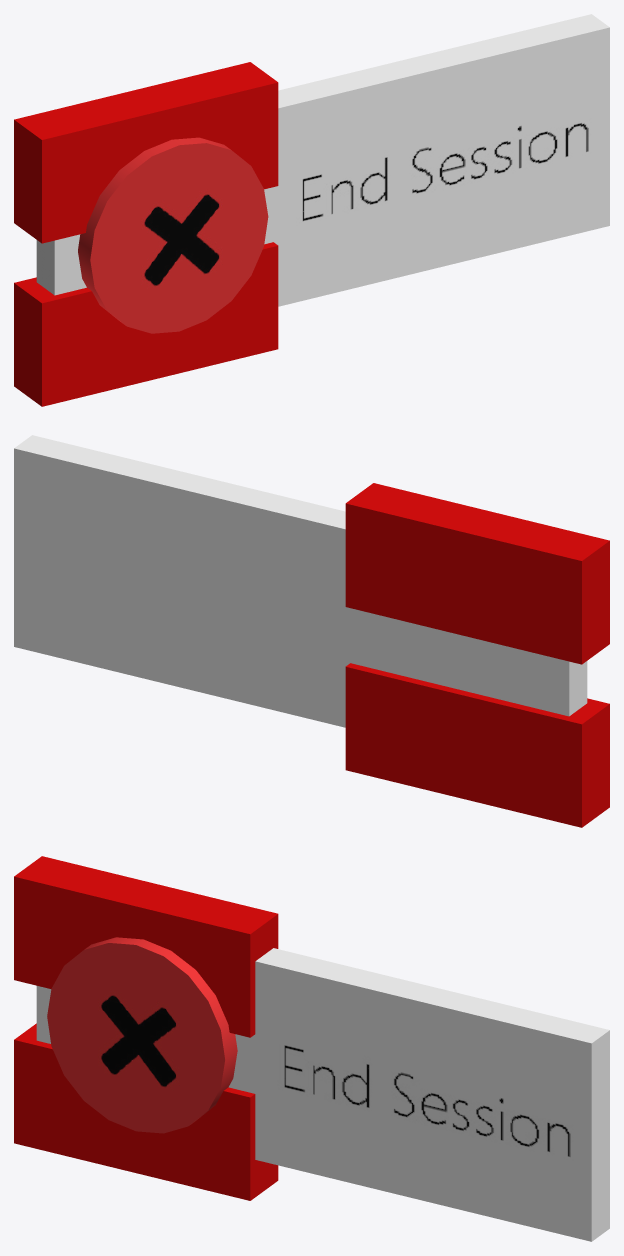
Rendered from endSession.fbx.
The picture shows the model from 3 angles, top to bottom: view 1: azimuth 30°, elevation 25°; view 2: azimuth 150°, elevation 25°; view 3: azimuth 330°, elevation 25°; orthographic projection.
Visible parts, largest first — view 1: pCube1, pCylinder1, pCube2, pCube3; view 2: pCube1, pCube2, pCube3; view 3: pCube1, pCylinder1, pCube2, pCube3.
Part boxes in pixels (box(x1,y1,x2,y2)): pCube1: box(36, 14, 609, 306); pCylinder1: box(78, 137, 268, 333); pCube2: box(14, 62, 278, 243); pCube3: box(14, 242, 278, 406); pCube1: box(14, 435, 587, 727); pCube2: box(345, 483, 609, 664); pCube3: box(345, 663, 609, 827); pCube1: box(36, 948, 609, 1241); pCylinder1: box(47, 937, 237, 1133); pCube2: box(14, 856, 278, 1037); pCube3: box(14, 1023, 278, 1200).
Size of the model in its own units: 6.21 by 0.6684 by 2.76.
Materials: 3 (2 with a texture image).
